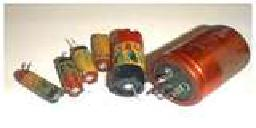Electrolytic-Capacitor: (148, 24, 252, 103), (107, 27, 148, 99), (10, 63, 69, 104), (71, 35, 104, 93), (88, 23, 121, 77)
